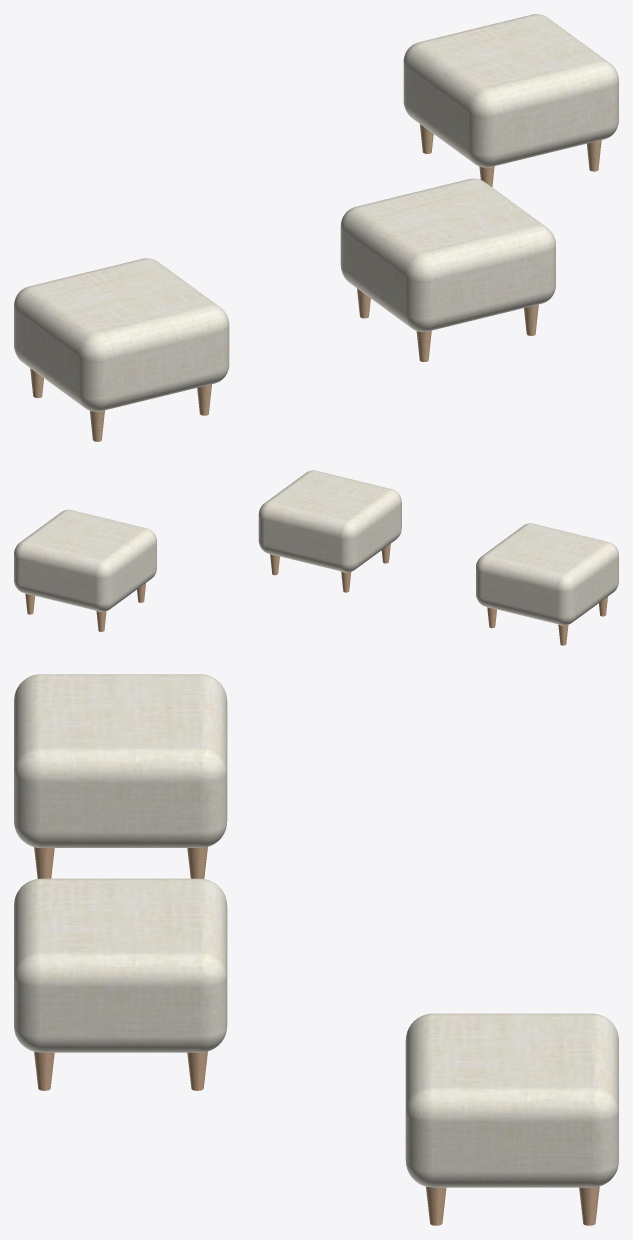
The model's file is new_living_chair.fbx.
3 renders of one model, top to bottom at view 1: azimuth 30°, elevation 25°; view 2: azimuth 150°, elevation 25°; view 3: azimuth 270°, elevation 25°, orthographic. The views are drawn at different scales.
Visible parts, largest first — view 1: polySurface199, polySurface209, polySurface204; view 2: polySurface204, polySurface209, polySurface199; view 3: polySurface199, polySurface204, polySurface209.
Boxes of the visible parts, box(x1,y1,x2,y2) form: polySurface199: box(403, 14, 618, 167); polySurface209: box(14, 258, 229, 411); polySurface204: box(340, 178, 555, 331); polySurface204: box(258, 470, 401, 572); polySurface209: box(476, 523, 618, 625); polySurface199: box(14, 509, 156, 611); polySurface199: box(405, 1013, 618, 1187); polySurface204: box(14, 878, 227, 1052); polySurface209: box(14, 674, 227, 847).
Bounding box in the file's own units: 20.47 × 3.07 × 12.12.
